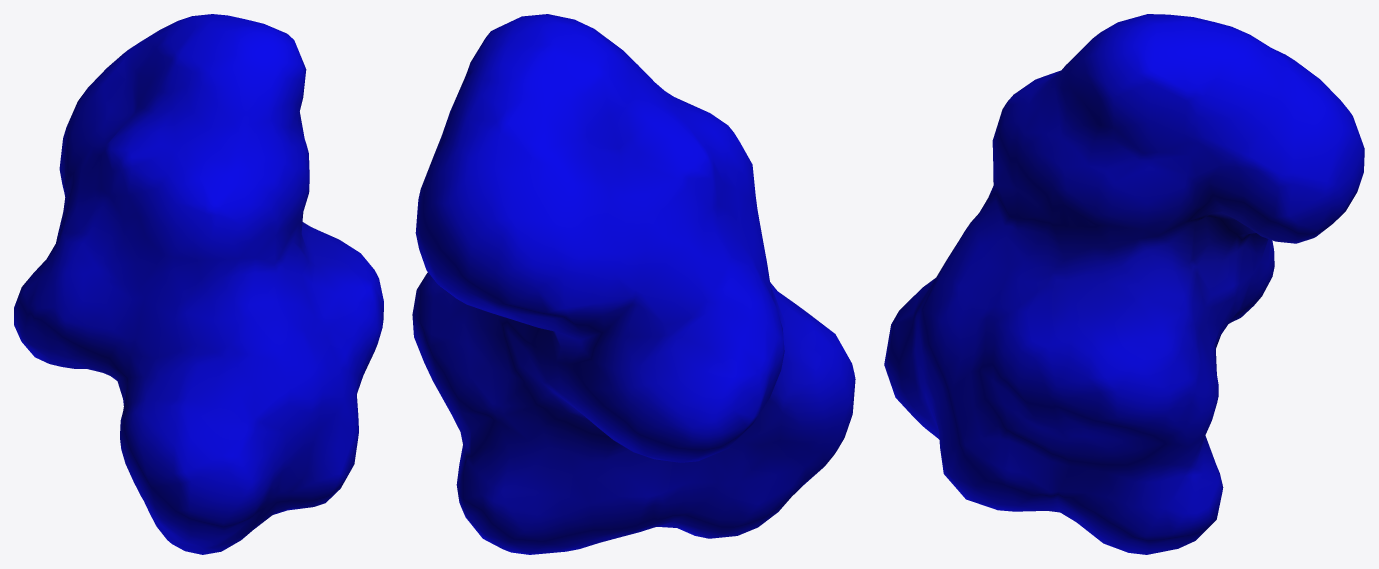
Rendered from NRG1.fbx.
The picture shows the model from 3 angles, left to right: view 1: azimuth 30°, elevation 25°; view 2: azimuth 150°, elevation 25°; view 3: azimuth 270°, elevation 25°; orthographic projection. The views are drawn at different scales.
Visible parts, largest first — view 1: chain_A_surface; view 2: chain_A_surface; view 3: chain_A_surface.
Part boxes in pixels (left/top/right/bottom): chain_A_surface: left=14, top=14, right=383, bottom=554; chain_A_surface: left=412, top=14, right=855, bottom=554; chain_A_surface: left=884, top=14, right=1364, bottom=554.
Size of the model in its own units: 53.96 by 74.02 by 62.07.
